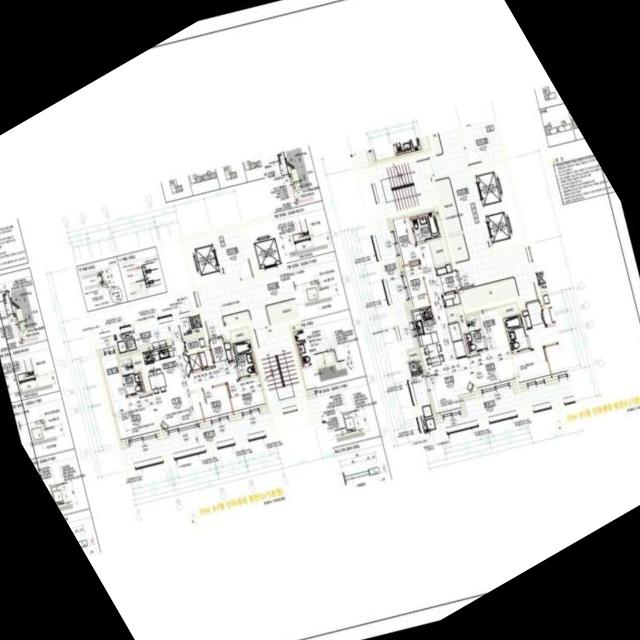background: (0, 0, 640, 640)
space_balconi: (407, 360, 523, 433), (120, 412, 274, 466), (372, 219, 415, 362), (93, 314, 203, 354)
space_bedroom: (109, 392, 159, 443), (469, 346, 516, 390), (227, 375, 269, 414), (391, 216, 419, 265), (197, 384, 233, 421), (401, 263, 429, 307)
space_dressroom: (97, 353, 126, 403), (478, 306, 507, 351)
space_elevator: (244, 219, 286, 271), (483, 202, 524, 250), (473, 162, 514, 210), (184, 235, 222, 286)
space_elevator_hall: (429, 119, 538, 303), (196, 268, 295, 339), (214, 228, 253, 280)
space_front: (199, 338, 234, 368), (435, 263, 460, 294)
space_kitchen: (410, 306, 446, 376), (142, 342, 202, 384)
space_living_room: (416, 241, 476, 416), (150, 363, 238, 432)
space_other: (462, 277, 518, 308), (435, 178, 462, 234), (428, 206, 451, 266), (131, 354, 149, 392), (445, 305, 467, 332), (449, 234, 468, 262), (222, 311, 250, 326), (184, 334, 207, 351), (230, 328, 250, 342), (443, 292, 460, 307)
space_staircase: (254, 327, 304, 411), (371, 158, 436, 214)
space_toilet: (231, 339, 258, 379), (118, 358, 145, 397), (409, 211, 440, 242), (463, 314, 486, 354)
